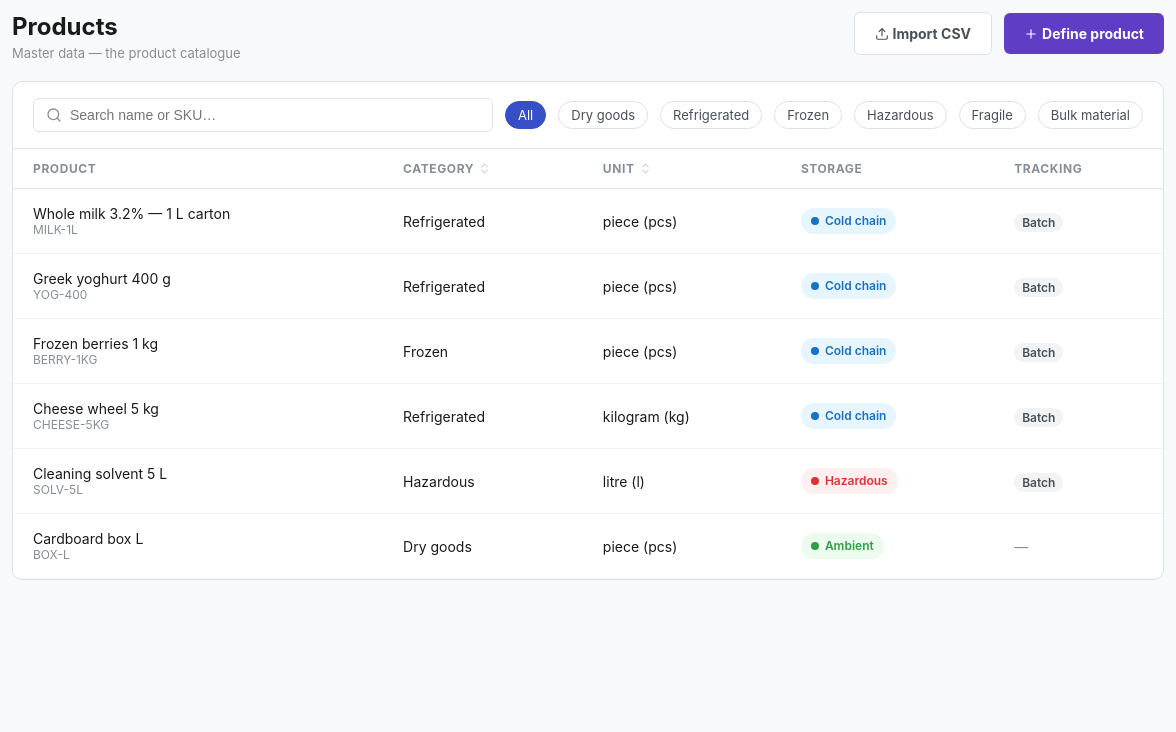
ProductCatalogScreen › filters by category pill
Check: the text "Whole milk 3.2% — 1 L carton" is shown, box [33,205,230,222]
Click the button "Dry goods".
click(603, 115)  # box [558,101,648,129]
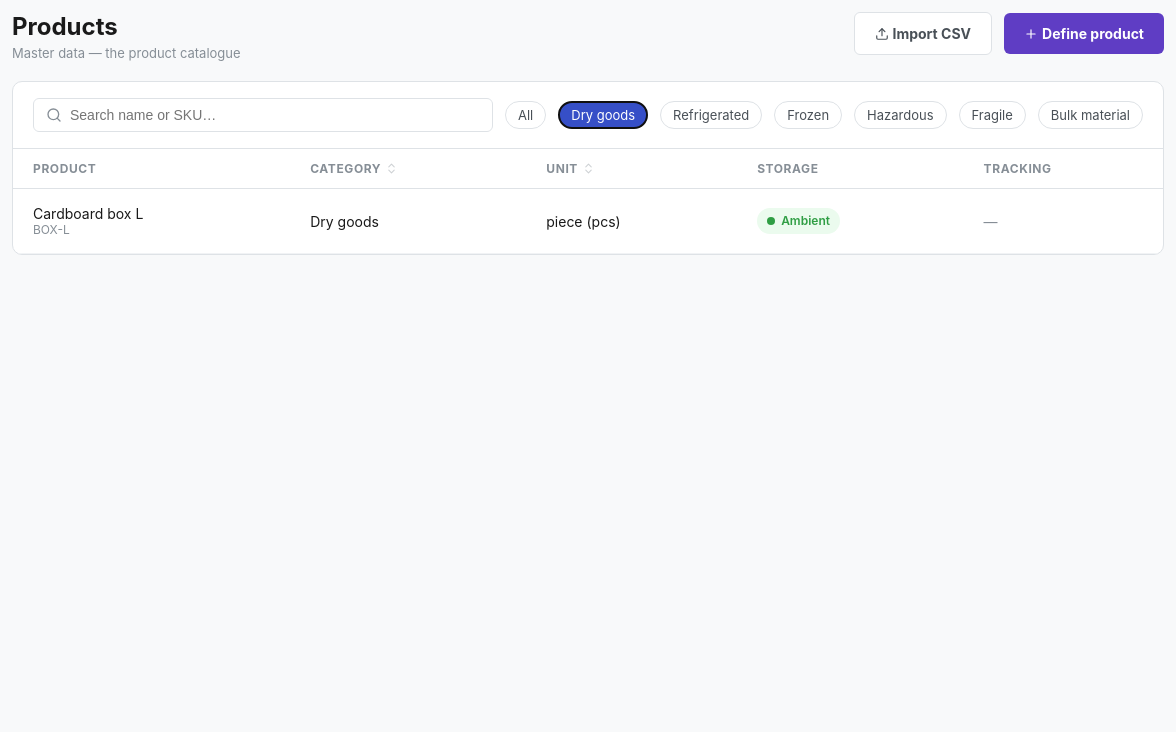
Check: the text "Cardboard box L" is shown, box [33,205,143,222]
Check: the button "Whole milk 3.2% — 1 L carton" is gone
